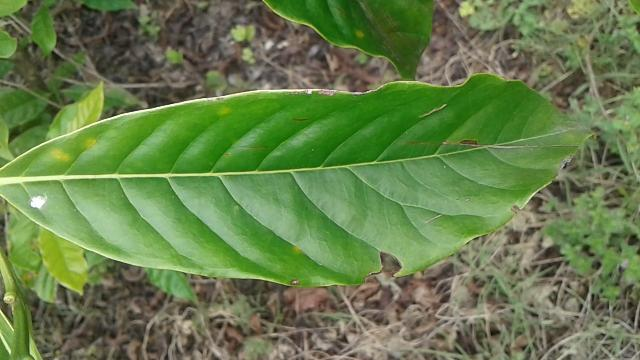rust_level_1: (0, 73, 591, 278)
